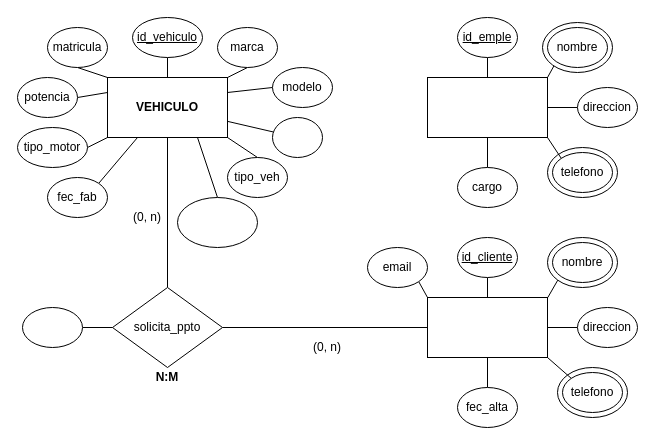
Some shapes in this 655 by 445 pixel diagram are drawn without their labels. Each missing label, with the box of its shape:
CLIENTE: (426, 296, 548, 358)
color: (272, 116, 322, 158)
EMPLEADO: (426, 76, 548, 138)
num_bastidor: (176, 196, 258, 248)
num_ppto: (22, 306, 82, 348)
